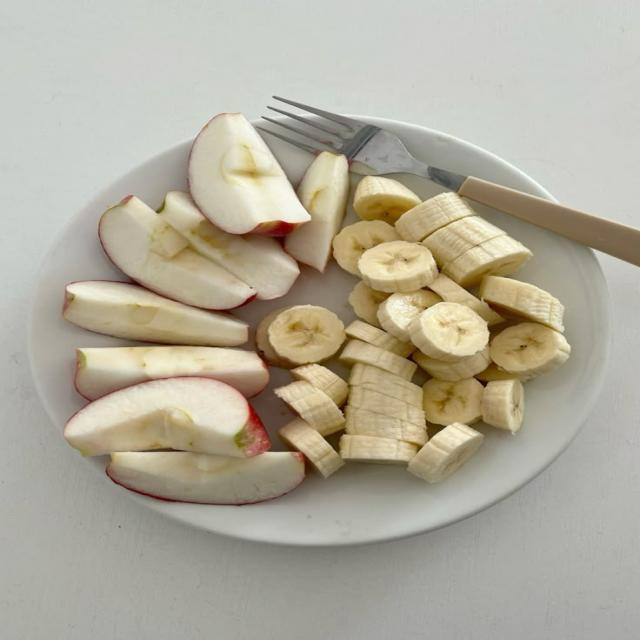apple: (99, 196, 256, 309), (63, 376, 270, 457), (158, 190, 299, 299), (188, 114, 310, 236), (63, 281, 248, 346), (106, 451, 304, 504), (74, 346, 269, 399), (284, 152, 349, 272)
banana slice: (479, 276, 564, 332), (267, 305, 346, 365), (442, 236, 533, 287), (410, 303, 488, 362), (408, 423, 484, 482), (490, 323, 570, 378), (422, 216, 506, 266), (358, 241, 438, 292), (396, 193, 475, 242), (429, 274, 503, 326), (279, 419, 344, 478), (274, 381, 345, 435), (333, 221, 400, 276), (378, 290, 442, 341), (354, 176, 420, 225), (346, 407, 427, 446), (340, 340, 417, 380), (348, 387, 425, 426), (350, 368, 422, 409), (423, 378, 484, 425), (413, 346, 490, 381), (349, 364, 421, 401), (346, 321, 415, 357), (255, 308, 295, 368), (291, 364, 348, 406), (340, 435, 418, 464), (482, 380, 524, 432), (348, 282, 389, 327), (474, 363, 519, 382), (427, 423, 446, 439)
